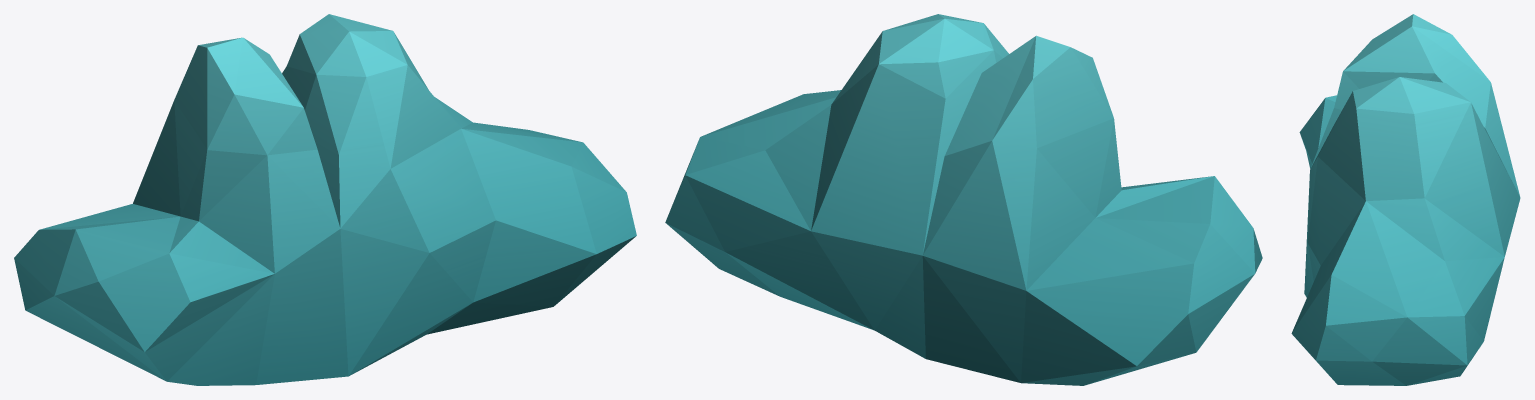
File: bush_split_blue.fbx
3 views of the same model, side by side, from view 1: azimuth 30°, elevation 25°; view 2: azimuth 150°, elevation 25°; view 3: azimuth 270°, elevation 25° (orthographic). The views are drawn at different scales.
Visible parts, largest first — view 1: bush_split_blue; view 2: bush_split_blue; view 3: bush_split_blue.
Part boxes in pixels (bbox=[...]): bush_split_blue: bbox=[14, 14, 636, 385]; bush_split_blue: bbox=[665, 14, 1262, 385]; bush_split_blue: bbox=[1291, 14, 1520, 385].
Bounding box in the file's own units: 2.75 × 1.45 × 1.2.
1 material, 1 textured.
